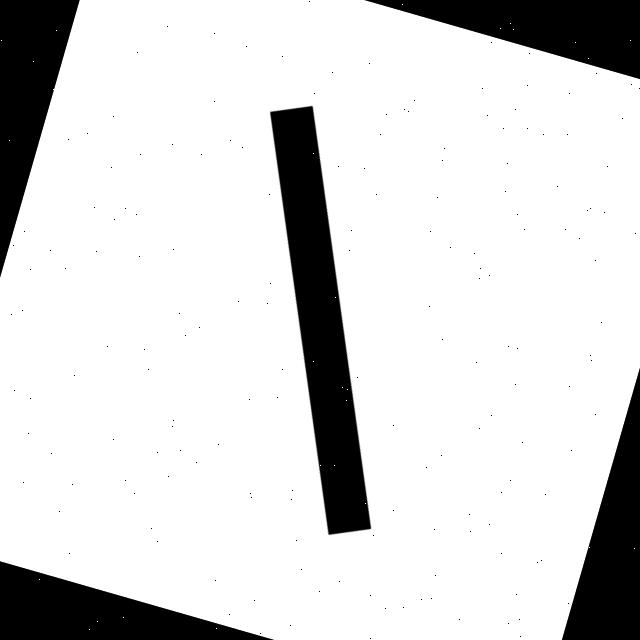line: (269, 106, 371, 534)
